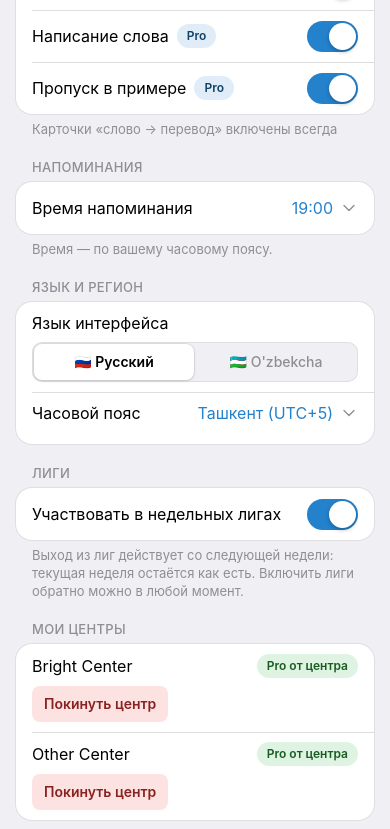
SettingsView › my centers › offers to leave with a small danger button, asks for confirmation, then leaves and shows the refreshed list
The width and height of the screenshot is (390, 829).
(page scrolled)
Click the button with test id "org-leave" below "Bright Center".
click(100, 704)  # box [32,686,168,722]
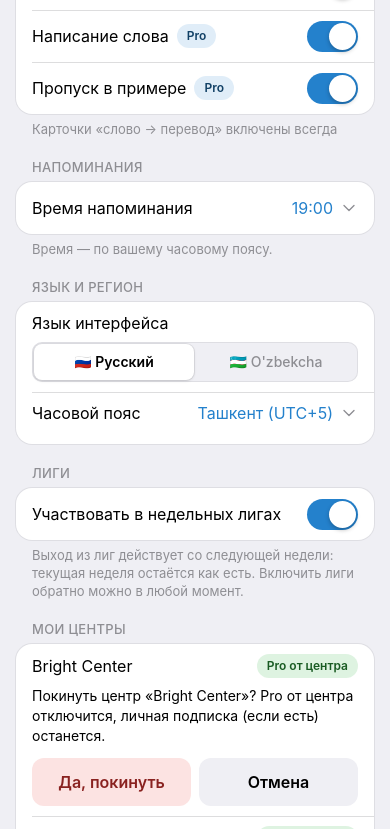
Now the element with test id "org-confirm" shows "Покинуть центр «Bright Center»?", box [32,687,353,744]
Click the button with test id "org-leave-yes".
click(112, 782)  # box [32,758,191,806]
(page scrolled)
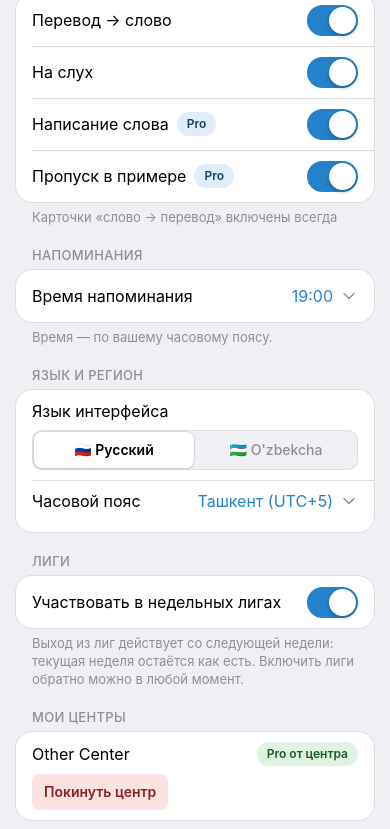
Now the elements with test id "org-name" read "Other Center", in this order, box [32,744,130,764]
